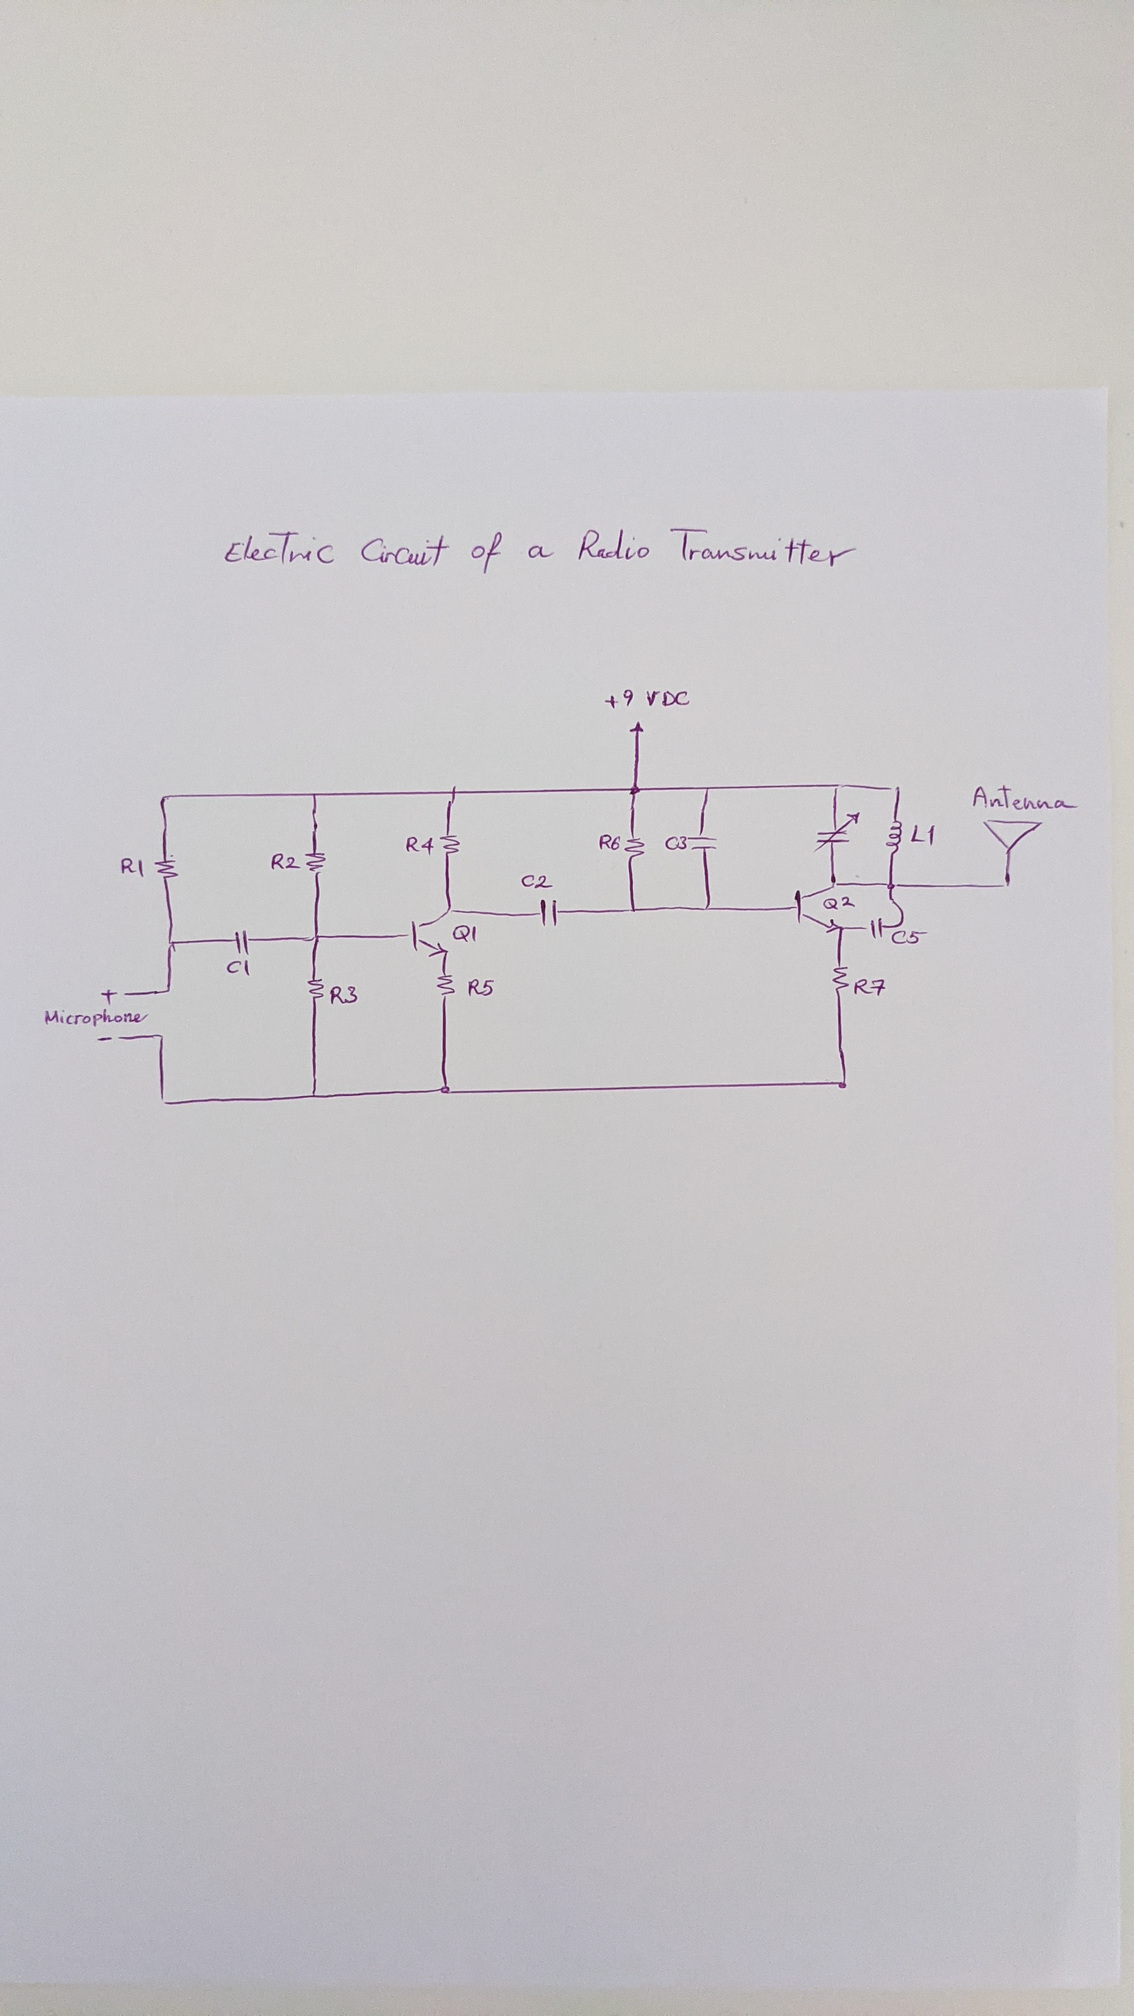antenna: (980, 816, 1045, 857)
capacitor.unpolarized: (811, 810, 863, 854), (536, 897, 564, 928), (687, 831, 719, 856), (863, 917, 889, 940), (233, 928, 253, 957)
inductor: (883, 817, 904, 857)
junction: (444, 785, 460, 804), (436, 1081, 454, 1097), (829, 781, 847, 795), (305, 932, 323, 944), (165, 937, 179, 953), (158, 791, 173, 804), (883, 879, 900, 892), (629, 784, 642, 798), (998, 879, 1014, 892), (836, 1077, 849, 1090), (158, 1094, 169, 1108), (888, 784, 903, 793), (702, 901, 714, 912), (894, 919, 908, 929), (163, 984, 174, 996), (310, 789, 321, 800), (627, 906, 640, 915), (309, 1088, 318, 1101), (702, 784, 714, 793), (156, 1032, 168, 1041)
resistor: (302, 849, 327, 879), (623, 834, 647, 865), (829, 962, 852, 994), (435, 971, 456, 1002), (152, 858, 179, 883), (438, 832, 461, 858), (306, 976, 325, 1002)
terminal: (115, 1032, 125, 1044), (120, 989, 132, 998)
text: (222, 523, 863, 577), (971, 782, 1079, 811), (43, 1007, 151, 1029), (604, 687, 692, 712), (908, 822, 937, 847), (853, 978, 888, 998), (404, 834, 436, 856), (328, 984, 360, 1007), (890, 929, 929, 947), (269, 852, 300, 872), (119, 856, 147, 879), (467, 978, 496, 1000), (822, 894, 857, 912), (521, 872, 554, 890), (451, 924, 478, 944), (665, 834, 688, 854), (597, 832, 622, 852), (226, 958, 251, 978), (100, 989, 119, 1007), (96, 1034, 114, 1044)
transistor: (791, 876, 847, 935), (404, 903, 458, 960)
vss: (627, 719, 648, 735)
